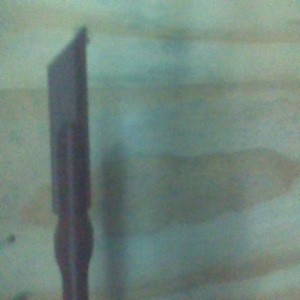cutter: (44, 24, 95, 300)
